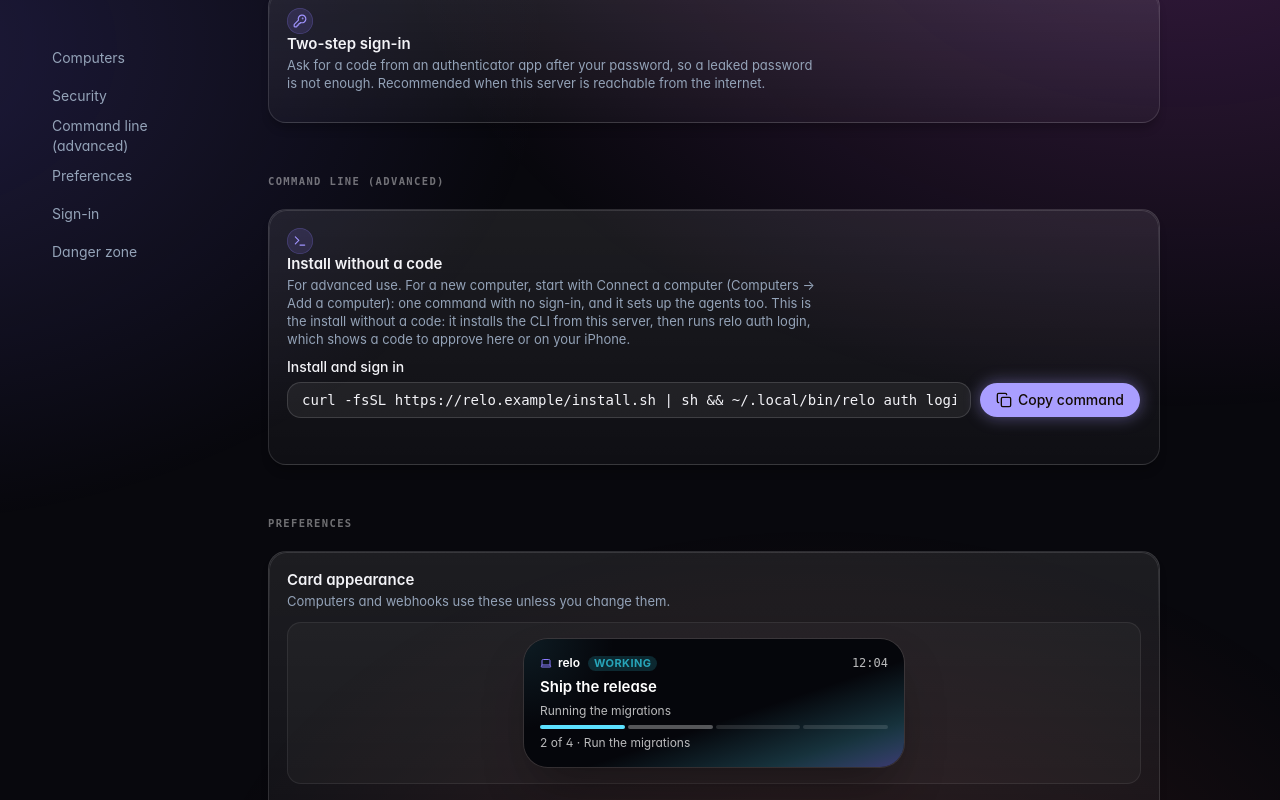
Test case: Account feature contracts › copies a login command bound to the canonical server origin
(page scrolled)
Check: the field labelled "Install and sign in" holds "curl -fsSL https://relo.example/install.sh | sh && ~/.local/bin/relo auth login --api-url \"https://relo.example\"", box x1=287 y1=382 x2=971 y2=418
Click the button "Copy command" at (1060, 400), box x1=979 y1=382 x2=1141 y2=418
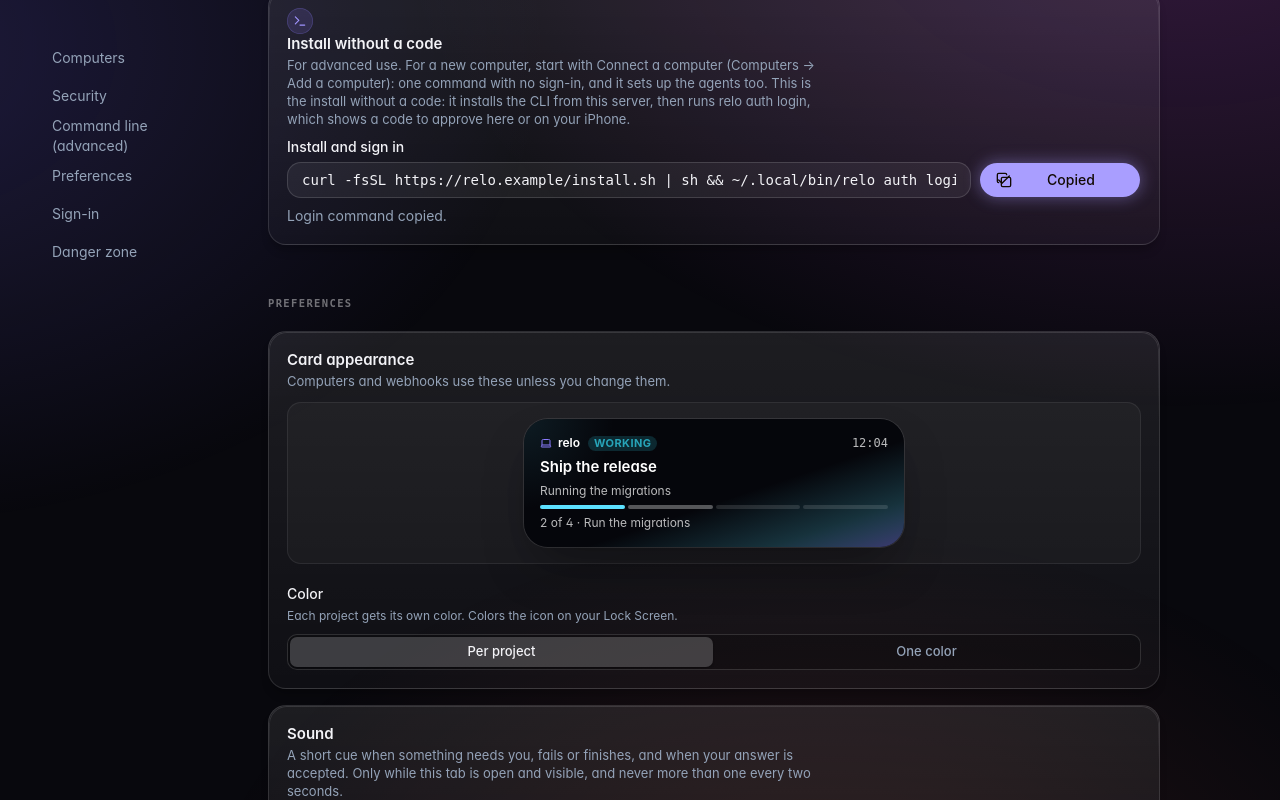
Check: the text "Login command copied." is shown, box x1=287 y1=207 x2=447 y2=224
